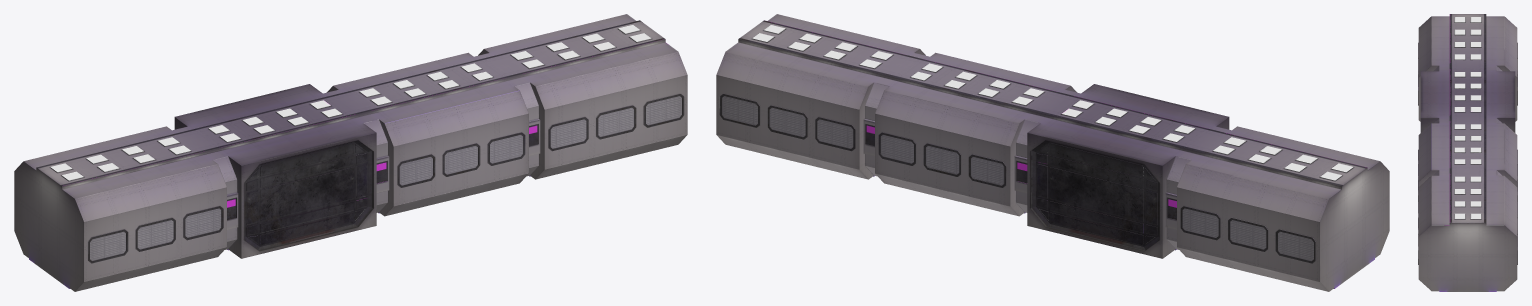
The model's file is sci-fi-train-light-baked.fbx.
3 renders of one model, left to right at view 1: azimuth 30°, elevation 25°; view 2: azimuth 150°, elevation 25°; view 3: azimuth 270°, elevation 25°, orthographic. The views are drawn at different scales.
Parts seen in each view (by area): view 1: obj1; view 2: obj1; view 3: obj1.
Part boxes in pixels (<box>): obj1: <box>14,14,687,291</box>; obj1: <box>716,14,1389,291</box>; obj1: <box>1418,14,1517,291</box>.
Size of the model in its own units: 1900 by 295 by 384.
1 material, 1 textured.
